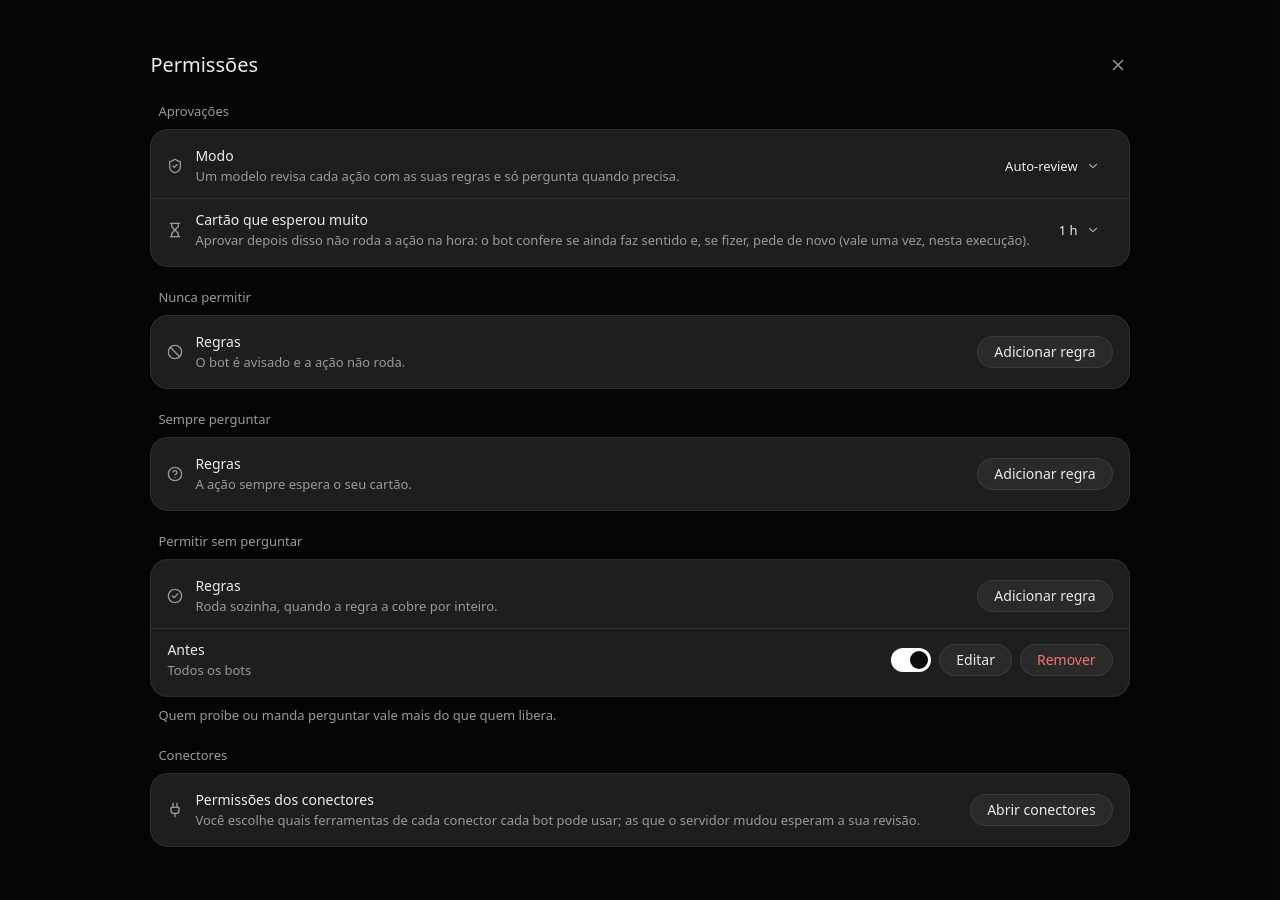
Scenario: Permissões: the rules you write › edit changes only the text; the switch and Remover talk to the server
Click the switch with test id "written-rule-toggle" at (911, 660), box [891,648,931,672]
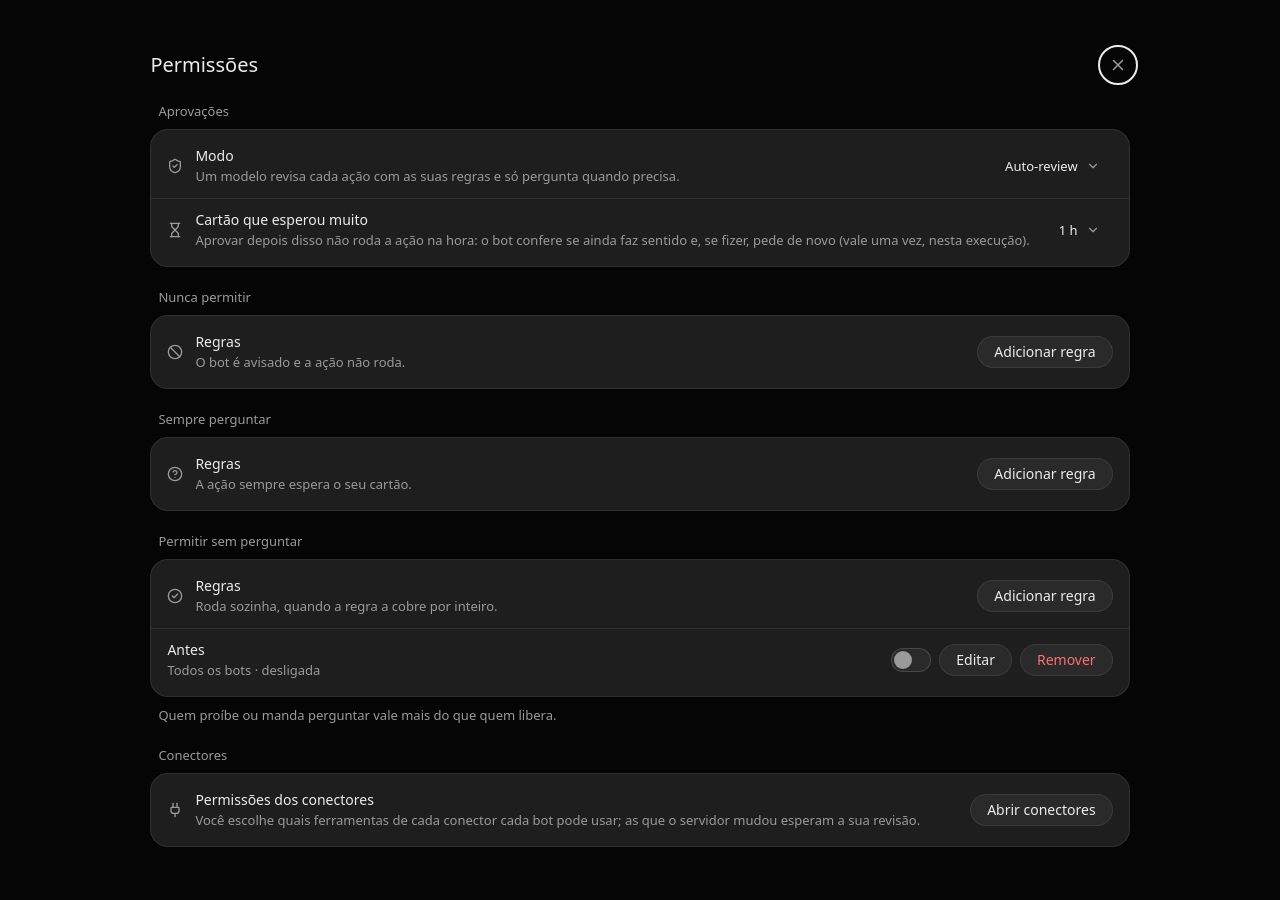
Click the button with test id "written-rule-edit" at (976, 660), box [939,644,1012,676]
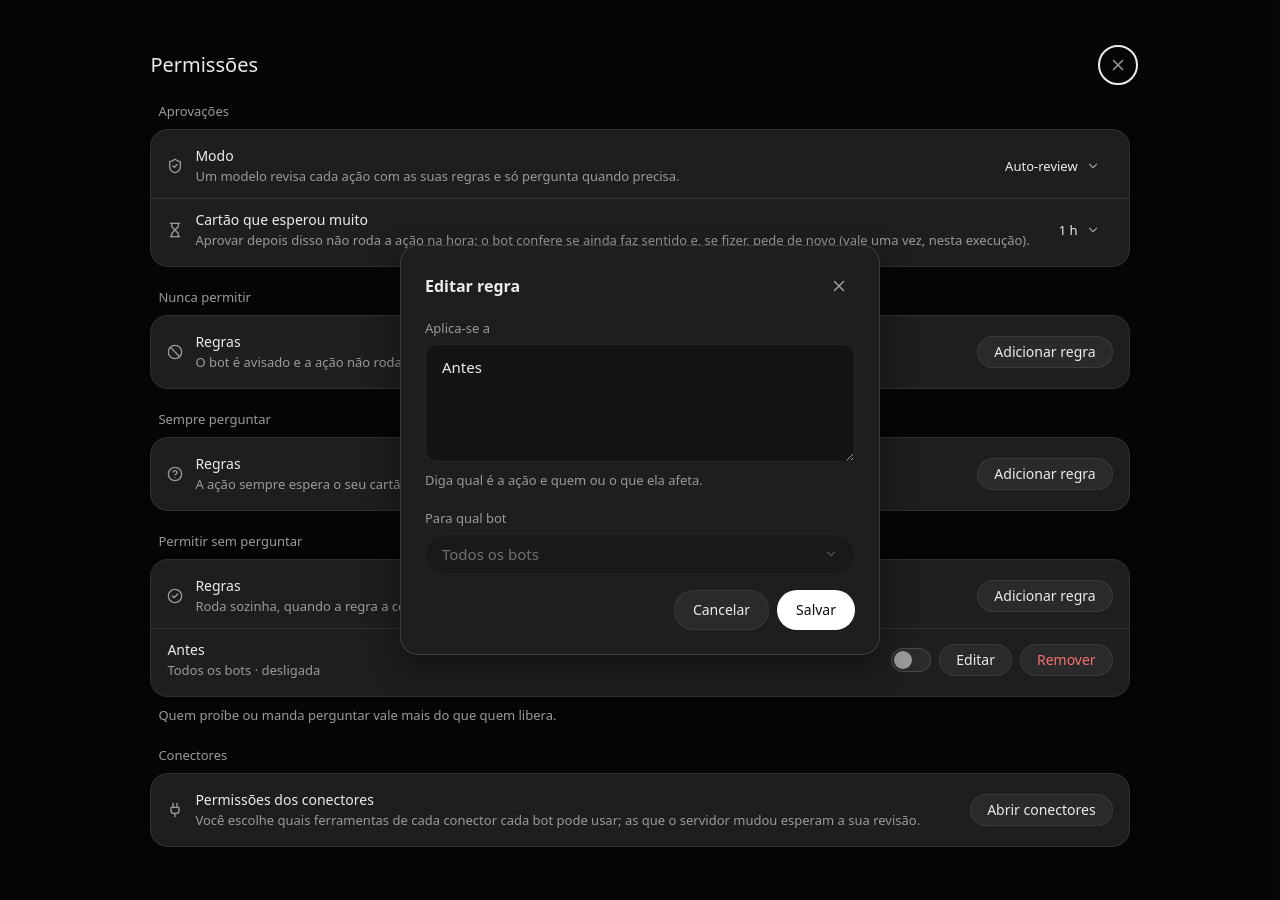
Expected: the text box with test id "written-rule-text" holds "Antes"
Expected: the dropdown with test id "written-rule-bot" is disabled, [425,534,855,574]
Replace the text in the text box with test id "written-rule-text" with "Depois" at (640, 403), box [425,344,855,462]
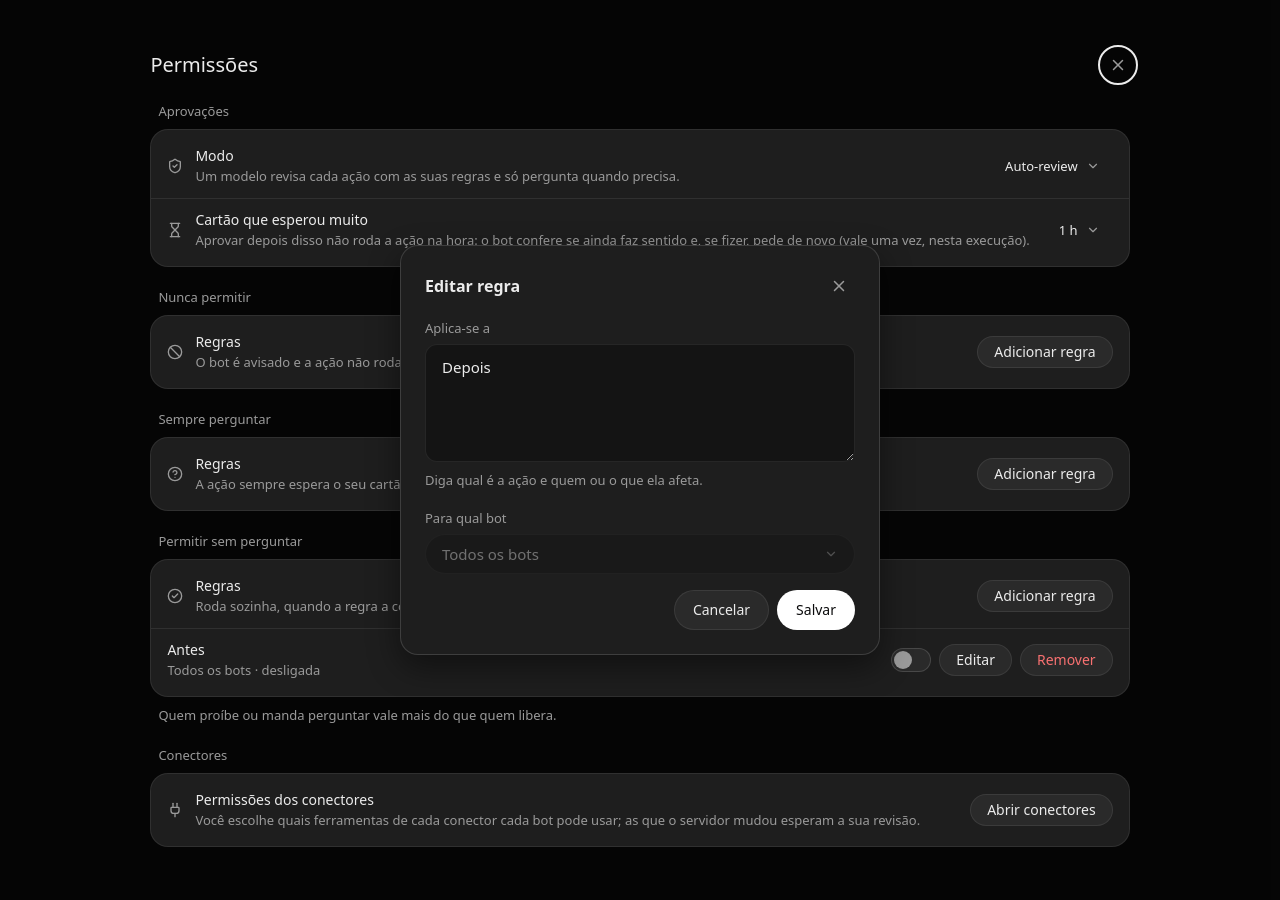
Click the button with test id "written-rule-save" at (816, 610), box [777,590,855,630]
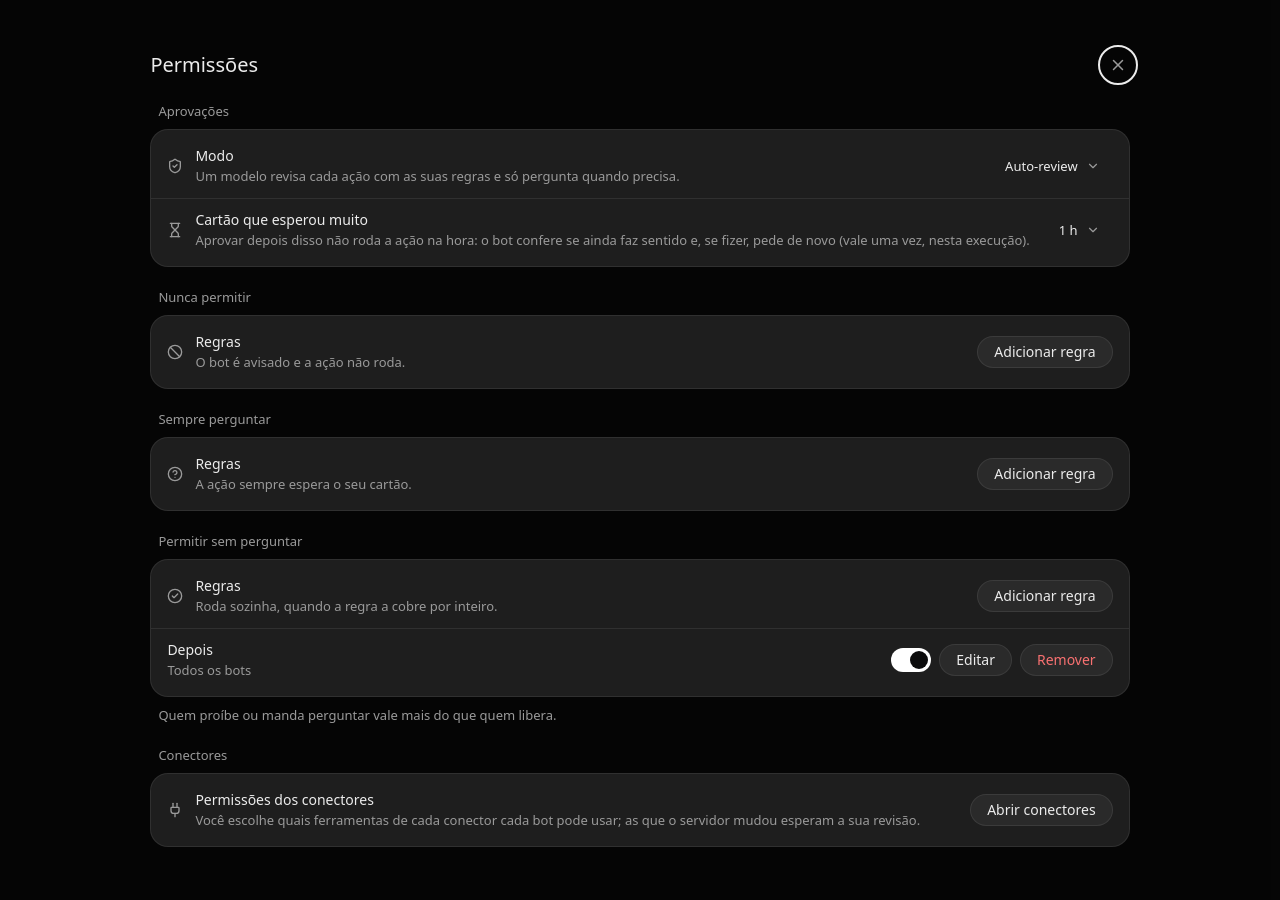
Expected: the element with test id "written-rule-form" is gone
Expected: the text with test id "written-rule-sentence" reads "Depois", [167,640,213,659]
Click the button with test id "written-rule-delete" at (1066, 660), box [1020,644,1113,676]
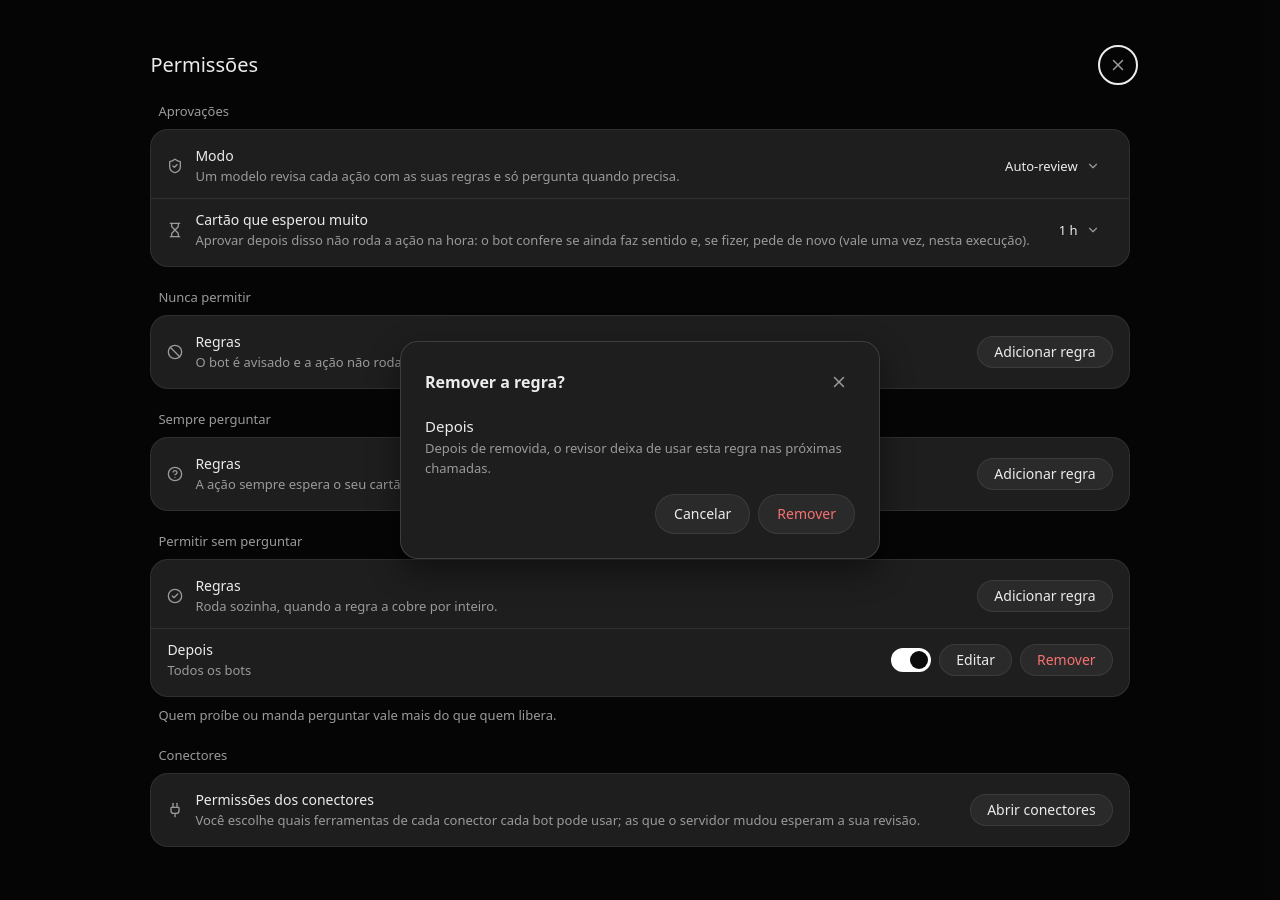
Click the button with test id "written-rule-delete-confirm" at (807, 514), box [758,494,855,534]
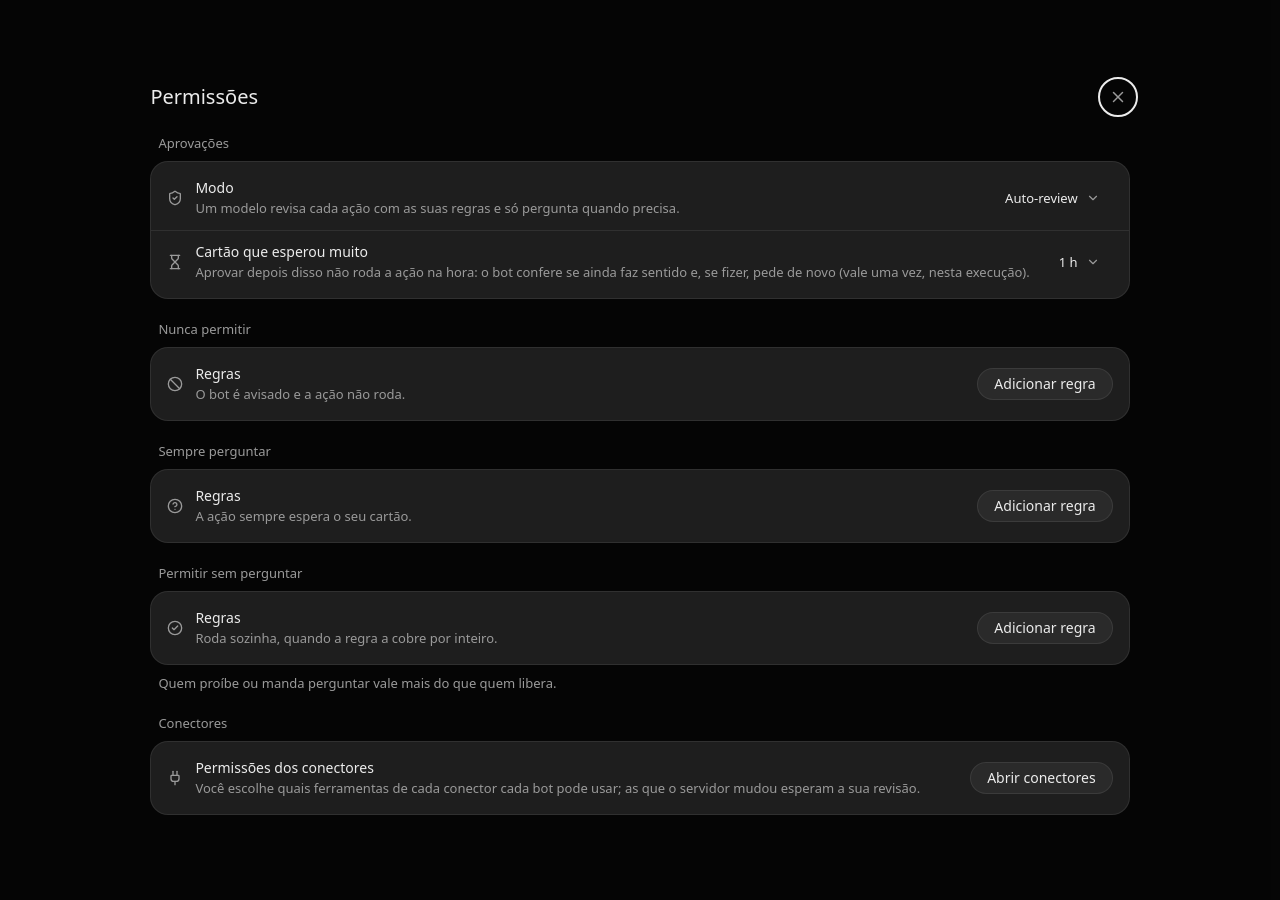
Expected: the element with test id "written-rule" is gone
